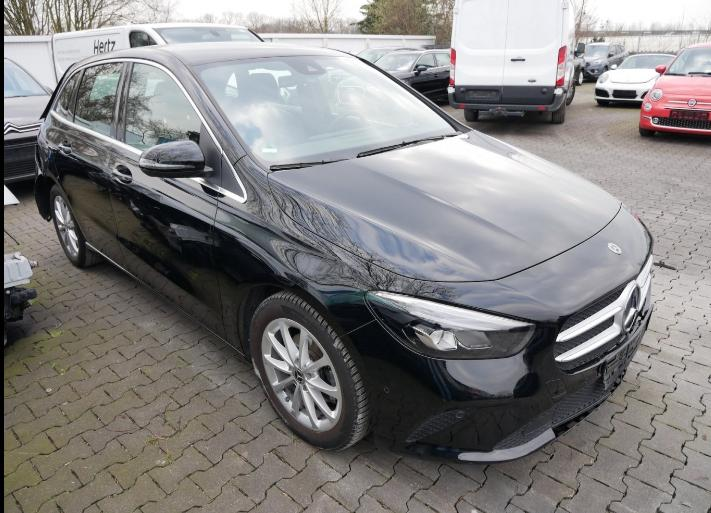Back-door: (53, 58, 129, 270)
Back-wheel: (48, 184, 104, 269)
Back-window: (74, 62, 123, 137), (55, 71, 80, 118)
Fender: (213, 154, 414, 354)
Front-bumper: (339, 204, 652, 464)
Front-door: (107, 58, 226, 341)
Front-wheel: (249, 290, 374, 451)
Front-window: (126, 62, 202, 151)
Grille: (552, 244, 654, 372)
Headlight: (364, 290, 536, 359)
Hood: (267, 129, 622, 281)
License-plate: (603, 305, 653, 387)
Mirror: (139, 140, 214, 178)
Quarter-panel: (34, 107, 69, 200)
Rocker-panel: (86, 241, 247, 358)
Roof: (76, 42, 356, 69)
Windshield: (187, 56, 460, 172)
